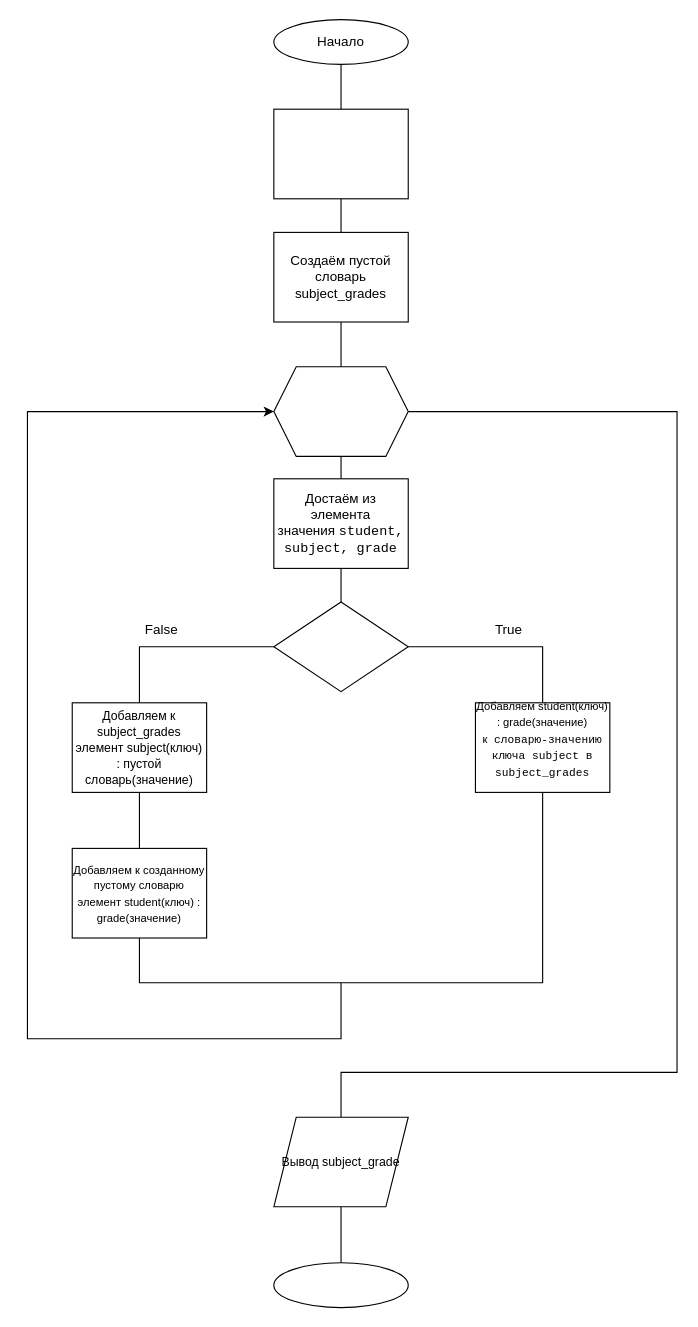
This 698x1327 diagram has some shape labels left out. The shapes that lost their labels are listed below. From the top down, each one's centre as x and y in pixels, then its label:
[340,153]: Задаём список словарей data
[340,411]: Проходим по элементам data
[340,646]: subject in subject_grades
[340,1285]: Конец
